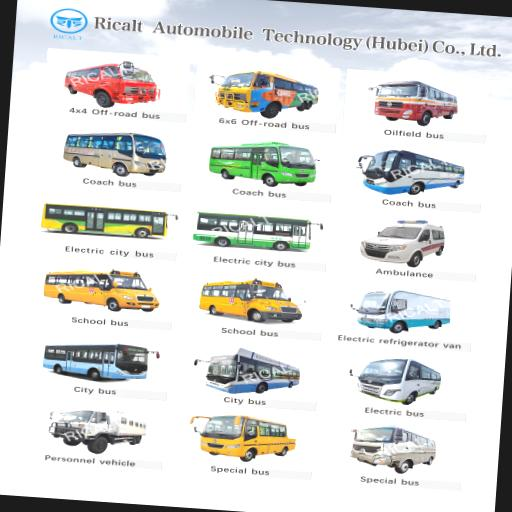bus: (194, 212, 322, 251), (190, 415, 296, 462), (359, 149, 465, 195), (209, 142, 317, 187), (44, 271, 159, 312), (216, 72, 318, 118), (199, 278, 303, 323), (356, 288, 451, 334), (48, 410, 147, 454), (349, 424, 436, 474), (64, 133, 165, 176), (42, 204, 167, 238), (206, 349, 299, 394), (360, 219, 445, 268), (357, 360, 441, 405), (375, 82, 457, 126), (82, 349, 131, 378), (116, 79, 157, 101), (108, 62, 134, 88), (44, 347, 69, 372)
